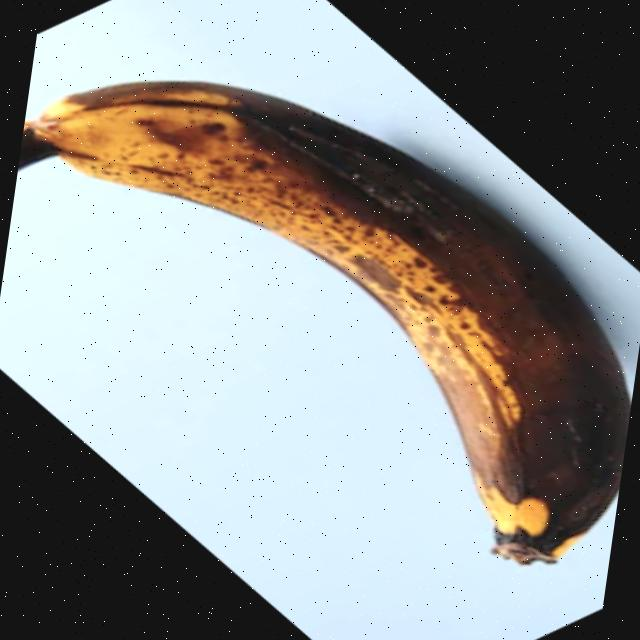overripe: (0, 51, 640, 580)
